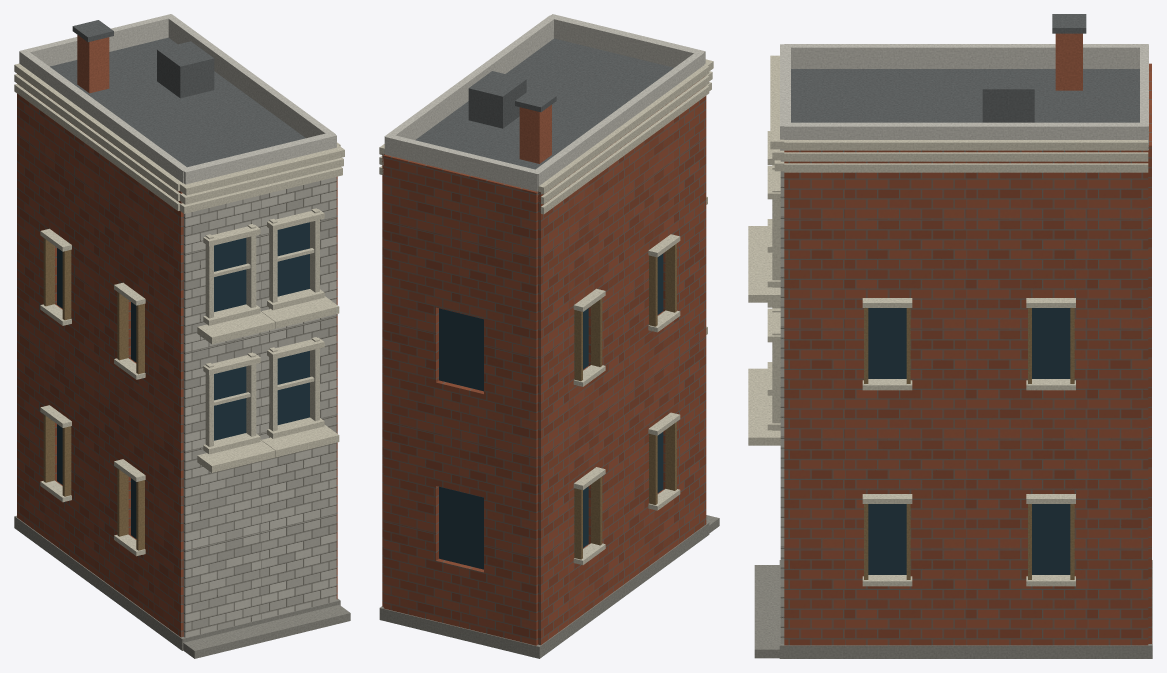
Rendered from RUNDWN16_lod2.glb.
3 views of the same model, side by side, from view 1: azimuth 30°, elevation 25°; view 2: azimuth 150°, elevation 25°; view 3: azimuth 270°, elevation 25° (orthographic). The views are drawn at different scales.
Parts seen in each view (by area): view 1: RUNDWN16_LOD2; view 2: RUNDWN16_LOD2; view 3: RUNDWN16_LOD2.
Boxes of the visible parts, x1,y1,x2,y2 form: RUNDWN16_LOD2: (14,14,350,658); RUNDWN16_LOD2: (379,14,719,658); RUNDWN16_LOD2: (748,14,1152,658).
Bounding box in the file's own units: 3.71 × 10.45 × 6.67.
Materials: 10 (8 with a texture image).
